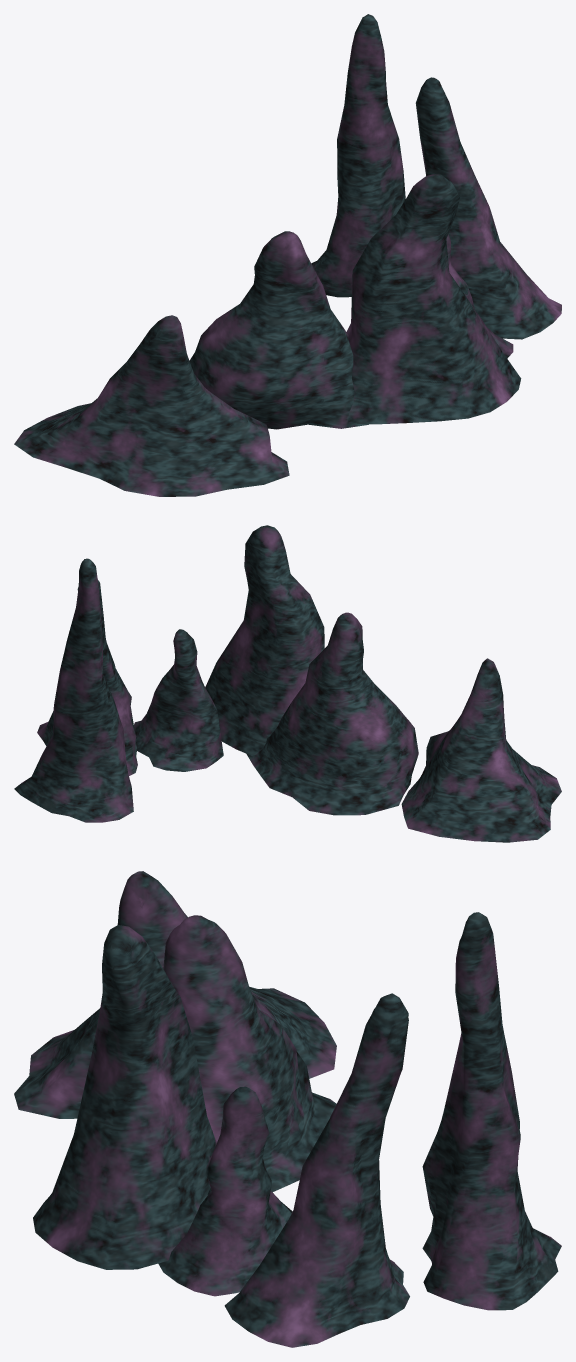
The model's file is CA_172_stalagmites.glb.
3 renders of one model, top to bottom at view 1: azimuth 30°, elevation 25°; view 2: azimuth 150°, elevation 25°; view 3: azimuth 270°, elevation 25°, orthographic. The views are drawn at different scales.
Parts seen in each view (by area): view 1: stalagmite_5, stalagmite_1, stalagmite_7, stalagmite_4, stalagmite_8, stalagmite_3; view 2: stalagmite_7, stalagmite_1, stalagmite_5, stalagmite_4, stalagmite_3, stalagmite_8; view 3: stalagmite_5, stalagmite_8, stalagmite_4, stalagmite_7, stalagmite_3, stalagmite_1.
Boxes of the visible parts, x1=… form: stalagmite_5: x1=346, y1=174, x2=521, y2=424; stalagmite_1: x1=14, y1=315, x2=289, y2=496; stalagmite_7: x1=189, y1=231, x2=368, y2=429; stalagmite_4: x1=311, y1=14, x2=405, y2=297; stalagmite_8: x1=415, y1=77, x2=561, y2=339; stalagmite_3: x1=446, y1=234, x2=513, y2=358; stalagmite_7: x1=246, y1=612, x2=418, y2=815; stalagmite_1: x1=401, y1=658, x2=561, y2=842; stalagmite_5: x1=205, y1=525, x2=324, y2=756; stalagmite_4: x1=14, y1=558, x2=133, y2=822; stalagmite_3: x1=134, y1=629, x2=223, y2=771; stalagmite_8: x1=37, y1=579, x2=137, y2=775; stalagmite_5: x1=33, y1=925, x2=216, y2=1269; stalagmite_8: x1=224, y1=993, x2=409, y2=1347; stalagmite_4: x1=422, y1=912, x2=561, y2=1310; stalagmite_7: x1=163, y1=915, x2=336, y2=1192; stalagmite_3: x1=158, y1=1086, x2=292, y2=1296; stalagmite_1: x1=14, y1=871, x2=336, y2=1118.
Size of the model in its own units: 2.29 by 1.09 by 1.48.
2 materials, 1 textured.
